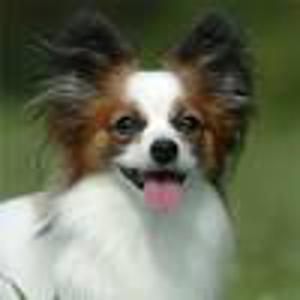yell: (0, 8, 260, 300)
